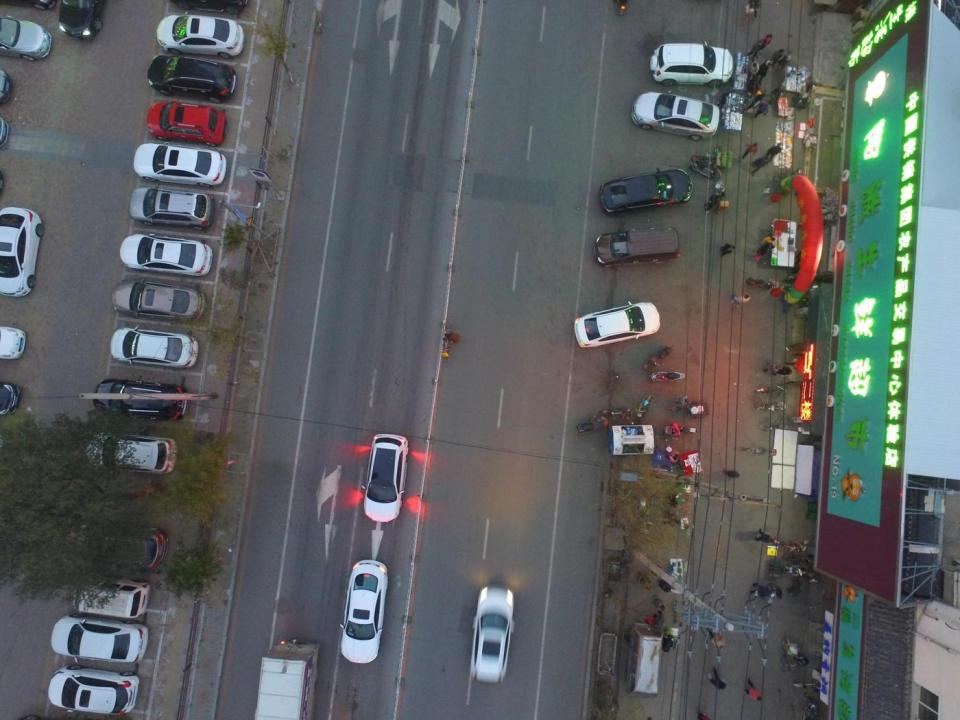car: (337, 560, 391, 666), (51, 614, 149, 666), (70, 521, 168, 569), (600, 166, 694, 216), (120, 231, 214, 280), (148, 51, 236, 103), (630, 92, 721, 141), (95, 378, 191, 424), (49, 666, 140, 714), (110, 322, 200, 370), (362, 433, 410, 522), (0, 209, 47, 299), (112, 279, 207, 323), (472, 583, 513, 684), (648, 41, 734, 89), (136, 142, 228, 186), (574, 302, 660, 349), (129, 185, 218, 228), (144, 101, 228, 144), (158, 16, 246, 56), (0, 16, 56, 62), (58, 0, 105, 41)
truck: (251, 640, 322, 720)
van: (88, 428, 178, 476), (592, 227, 682, 269), (67, 576, 158, 617), (627, 621, 659, 698)
